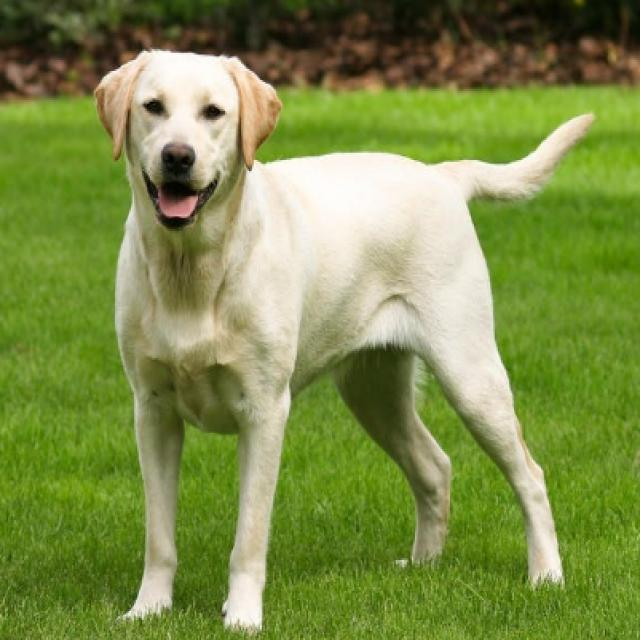Labrador: (97, 39, 284, 385)
